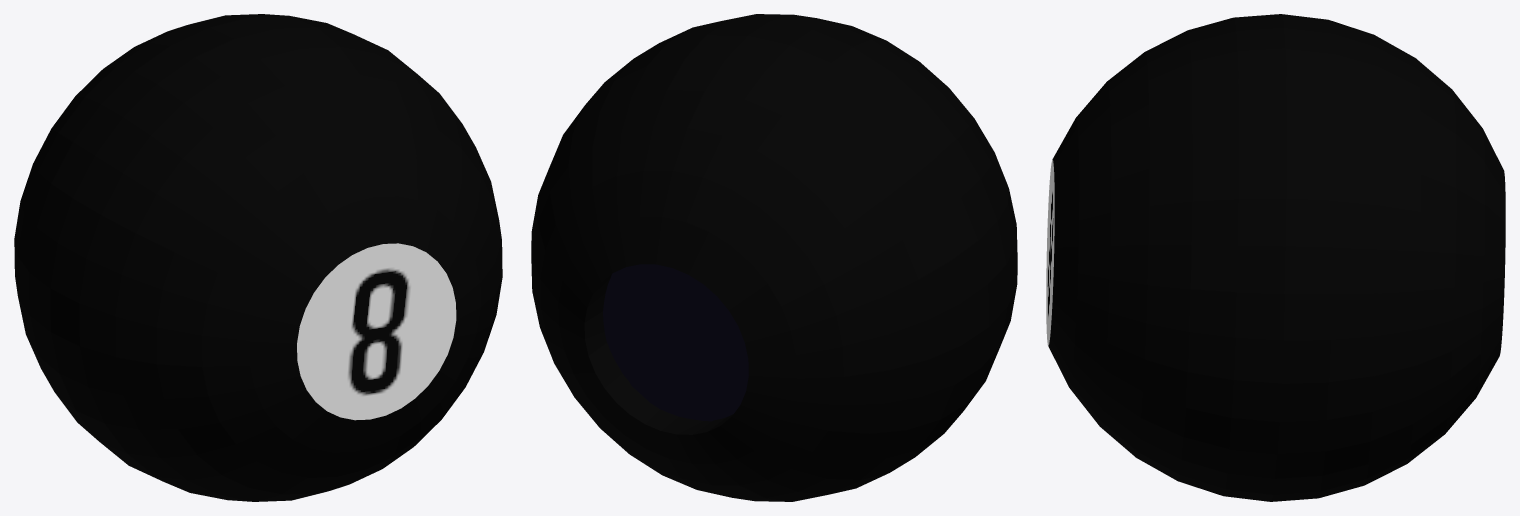
File: 8ball.gltf
3 views of the same model, side by side, from view 1: azimuth 30°, elevation 25°; view 2: azimuth 150°, elevation 25°; view 3: azimuth 270°, elevation 25° (orthographic).
Visible parts, largest first — view 1: Sphere; view 2: Sphere; view 3: Sphere.
Boxes of the visible parts, x1,y1,x2,y2 form: Sphere: (14,14,502,501); Sphere: (531,14,1017,501); Sphere: (1046,14,1505,501).
Size of the model in its own units: 1.99 by 1.99 by 1.88.
3 materials, 1 textured.
